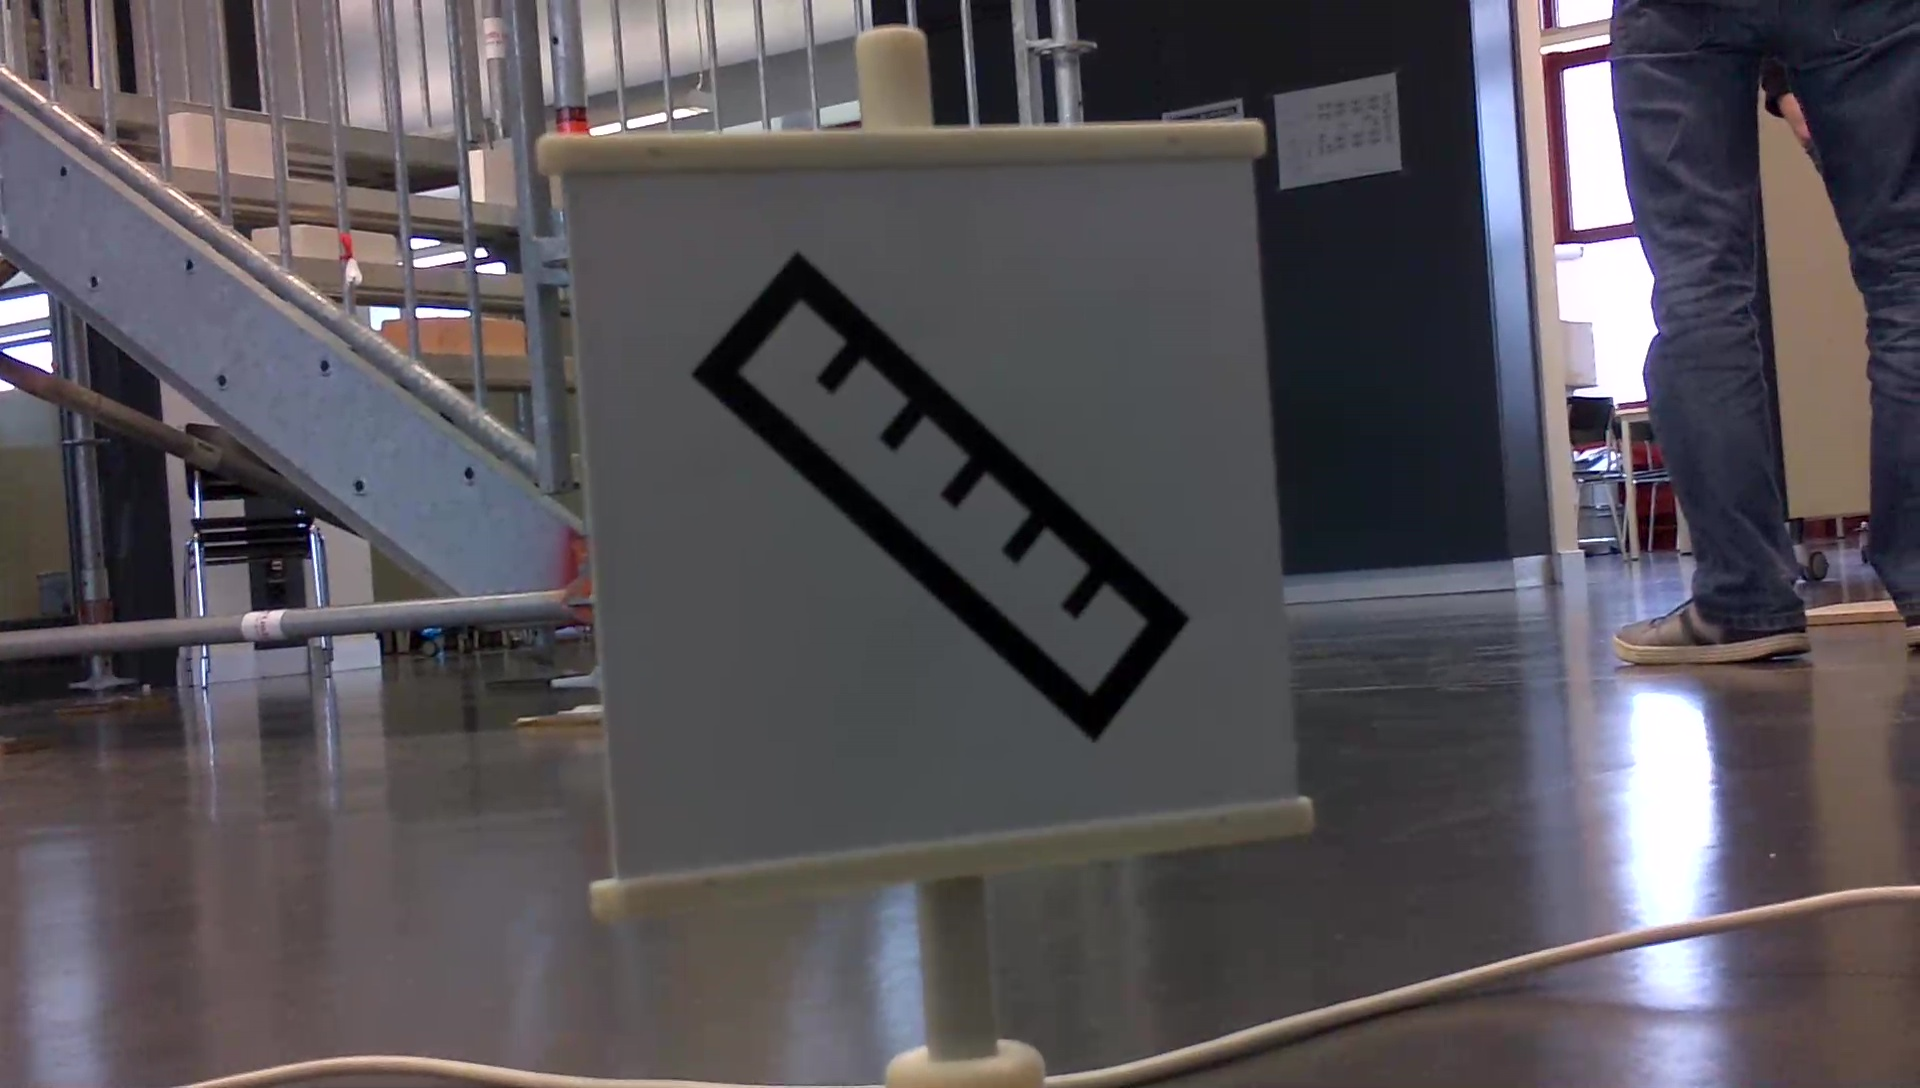ruler: (692, 235, 1199, 739)
